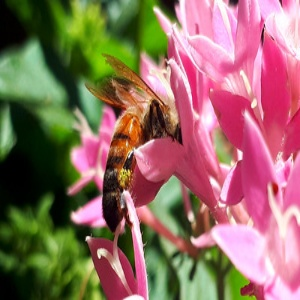bee: (85, 52, 183, 235)
